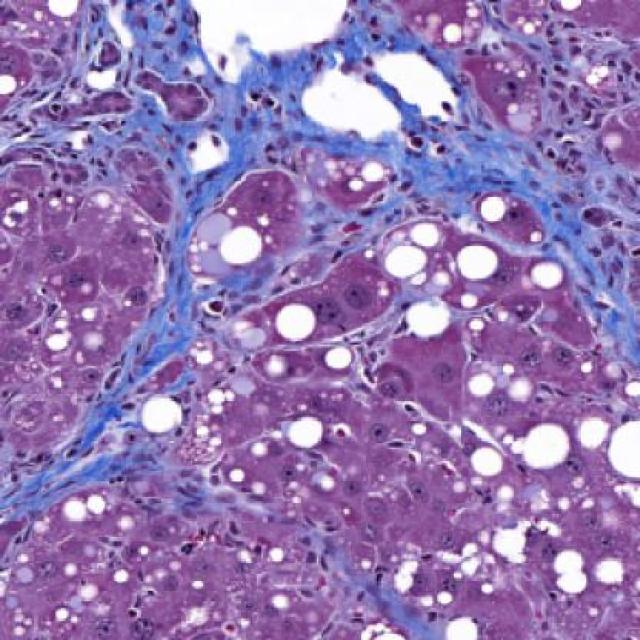fibrosis: (94, 5, 302, 174), (386, 115, 640, 251), (72, 343, 236, 509), (149, 197, 366, 321), (517, 10, 639, 124)
